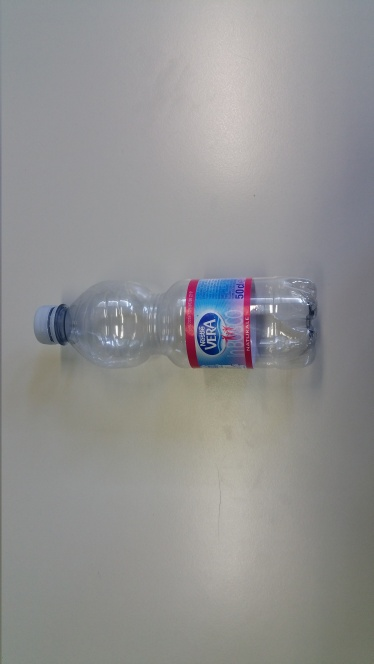bottle: (30, 286, 332, 369)
